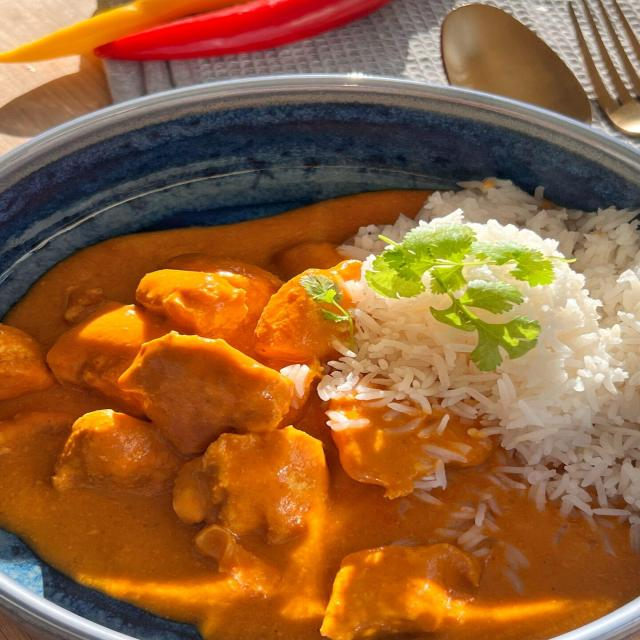chicken: (11, 227, 473, 640)
rice: (329, 169, 640, 472)
